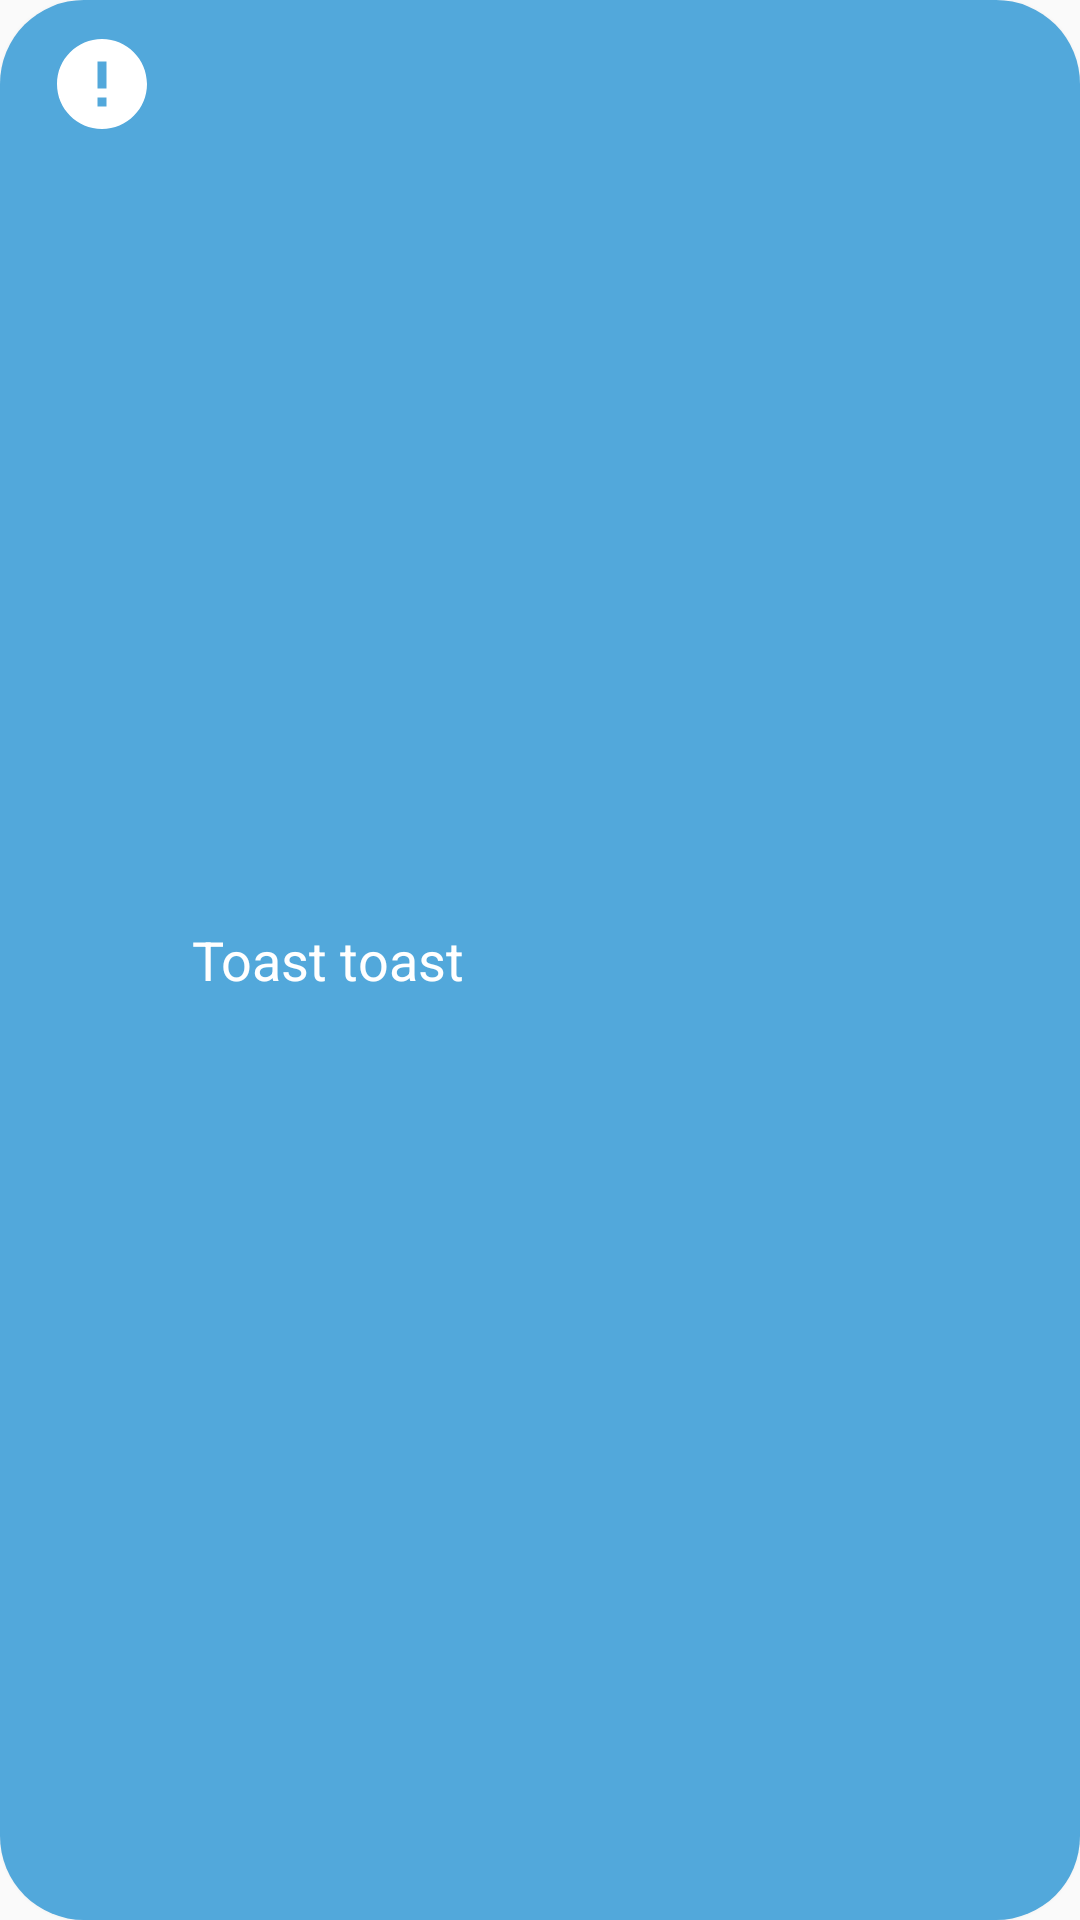

Point at icon controls on the screen. Image size 1080 × 1920, points as point (x, y).
alert: point (102, 84)
